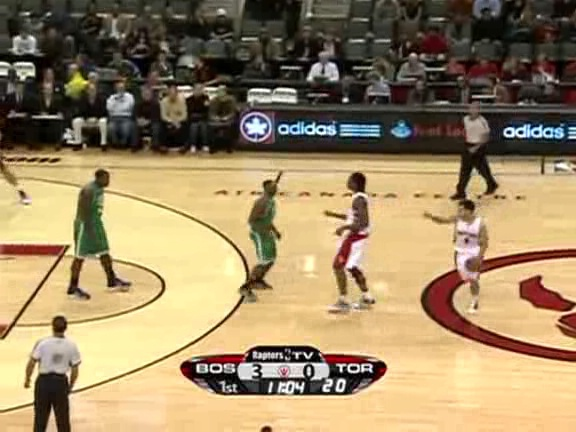person: (248, 188, 282, 269), (247, 188, 281, 269), (249, 188, 283, 269), (248, 187, 282, 268), (248, 189, 282, 270)
target_negative: (331, 15, 562, 168), (146, 202, 291, 363), (198, 220, 314, 410), (445, 190, 552, 339), (98, 361, 475, 369), (5, 149, 160, 152)
